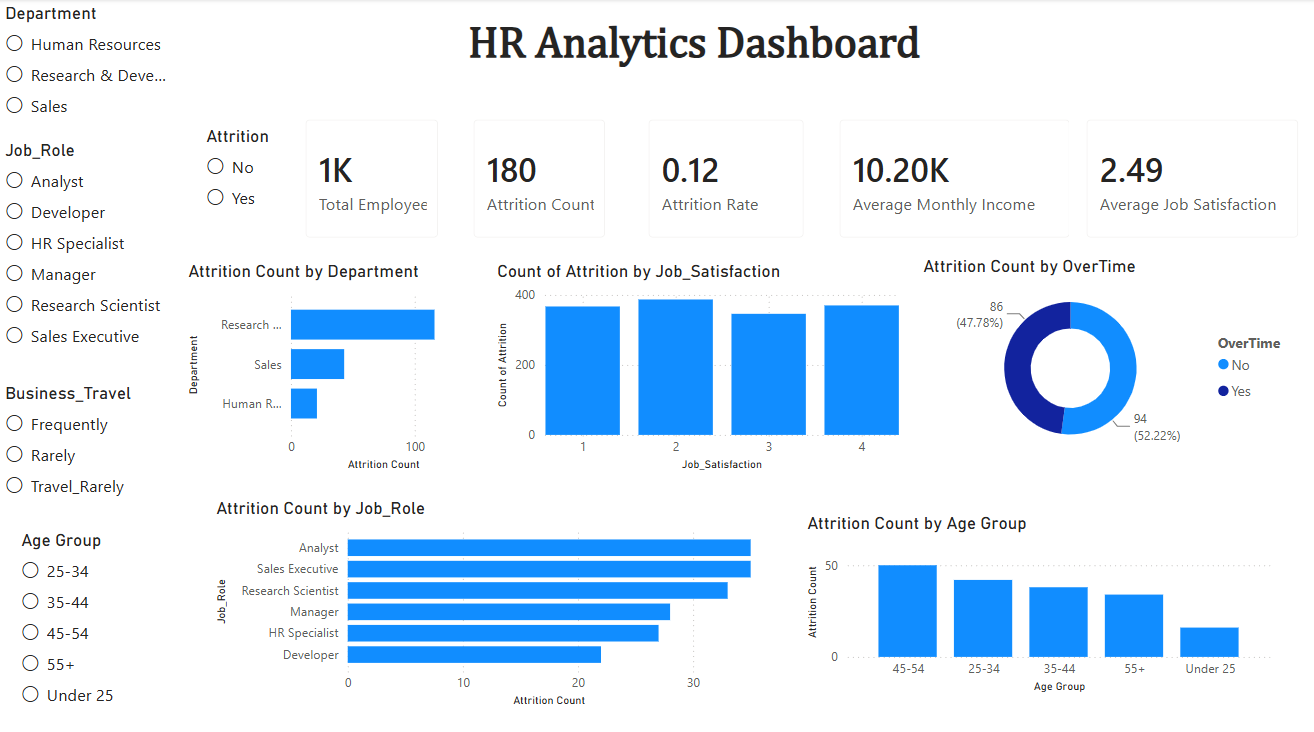

This screenshot's page, from the dashboard's own definition file:
{"tool":"powerbi","page":{"name":"Page 1","canvas":[1280,720],"ordinal":0},"visuals":[{"type":"cardVisual","fields":{"Data":["hr_data.Total Employees"]},"box":[280.1,100.2,163.4,149.8],"z":0},{"type":"cardVisual","fields":{"Data":["hr_data.Attrition Count"]},"box":[443.5,100.2,162.4,149.8],"z":1},{"type":"cardVisual","fields":{"Data":["hr_data.Attrition Rate"]},"box":[613.7,100.2,185.8,149.8],"z":2},{"type":"cardVisual","fields":{"Data":["hr_data.Average Monthly Income"]},"box":[799.5,100.2,258.7,149.8],"z":3},{"type":"cardVisual","fields":{"Data":["hr_data.Average Job Satisfaction"]},"box":[1039.8,100.2,240.2,149.8],"z":4},{"type":"clusteredBarChart","fields":{"Category":["hr_data.Department"],"Y":["hr_data.Attrition Count"]},"box":[178,254.8,300.5,208.1],"z":5},{"type":"clusteredBarChart","fields":{"Category":["hr_data.Job_Role"],"Y":["hr_data.Attrition Count"]},"box":[205.2,485.3,536.9,207.2],"z":6},{"type":"donutChart","fields":{"Category":["hr_data.OverTime"],"Y":["hr_data.Attrition Count"]},"box":[892.9,250,375.4,199.4],"z":7},{"type":"clusteredColumnChart","fields":{"Category":["hr_data.Job_Satisfaction"],"Y":["CountNonNull(hr_data.Attrition)"]},"box":[478.5,254.8,400.7,208.1],"z":8},{"type":"clusteredColumnChart","fields":{"Category":["hr_data.Age Group"],"Y":["hr_data.Attrition Count"]},"box":[780.1,499.9,461,179],"z":9},{"type":"listSlicer","fields":{"Values":["hr_data.Department"]},"box":[0,3.9,168.3,131.3],"z":10},{"type":"listSlicer","fields":{"Values":["hr_data.Job_Role"]},"box":[0,137.1,168.3,224.7],"z":11},{"type":"listSlicer","fields":{"Values":["hr_data.Business_Travel"]},"box":[0,373.5,168.3,126.4],"z":12},{"type":"listSlicer","fields":{"Values":["hr_data.Attrition"]},"box":[195.5,123.5,84.6,103.1],"z":13},{"type":"listSlicer","fields":{"Values":["hr_data.Age Group"]},"box":[15.6,516.5,117.7,203.3],"z":14},{"type":"textbox","box":[450.3,15.6,456.2,84.6],"z":15}]}

Visuals, with their boxes in screenshot pixels (x1, y1, x2, y2), scaled from the page's 1280x720 canvas onto the 1314x732 screenshot:
cardVisual - hr_data.Total Employees: left=288, top=102, right=455, bottom=254
cardVisual - hr_data.Attrition Count: left=455, top=102, right=622, bottom=254
cardVisual - hr_data.Attrition Rate: left=630, top=102, right=821, bottom=254
cardVisual - hr_data.Average Monthly Income: left=821, top=102, right=1086, bottom=254
cardVisual - hr_data.Average Job Satisfaction: left=1067, top=102, right=1313, bottom=254
clusteredBarChart - hr_data.Department x hr_data.Attrition Count: left=183, top=259, right=491, bottom=471
clusteredBarChart - hr_data.Job_Role x hr_data.Attrition Count: left=211, top=493, right=762, bottom=704
donutChart - hr_data.OverTime x hr_data.Attrition Count: left=917, top=254, right=1302, bottom=457
clusteredColumnChart - hr_data.Job_Satisfaction x CountNonNull(hr_data.Attrition): left=491, top=259, right=903, bottom=471
clusteredColumnChart - hr_data.Age Group x hr_data.Attrition Count: left=801, top=508, right=1274, bottom=690
listSlicer - hr_data.Department: left=0, top=4, right=173, bottom=137
listSlicer - hr_data.Job_Role: left=0, top=139, right=173, bottom=368
listSlicer - hr_data.Business_Travel: left=0, top=380, right=173, bottom=508
listSlicer - hr_data.Attrition: left=201, top=126, right=288, bottom=230
listSlicer - hr_data.Age Group: left=16, top=525, right=137, bottom=731
textbox: left=462, top=16, right=931, bottom=102
